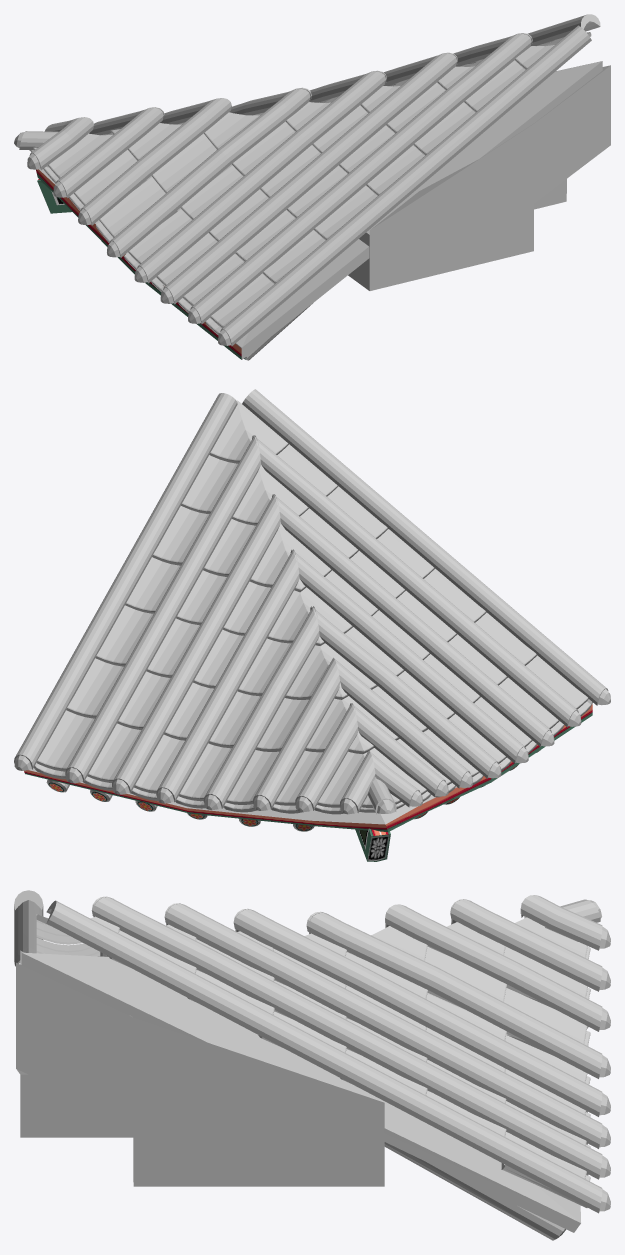
File: SM_R_RoofCorner_17.fbx
3 renders of one model, top to bottom at view 1: azimuth 30°, elevation 25°; view 2: azimuth 150°, elevation 25°; view 3: azimuth 270°, elevation 25°, orthographic. The views are drawn at different scales.
Visible parts, largest first — view 1: SM_R_RoofCorner_17_LOD0; view 2: SM_R_RoofCorner_17_LOD0; view 3: SM_R_RoofCorner_17_LOD0.
Part boxes in pixels (<box>): SM_R_RoofCorner_17_LOD0: <box>14,14,610,360</box>; SM_R_RoofCorner_17_LOD0: <box>14,389,610,861</box>; SM_R_RoofCorner_17_LOD0: <box>14,890,610,1240</box>.
Size of the model in its own units: 326 by 326 by 211.
